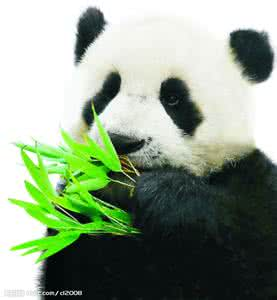panda: (36, 3, 277, 300)
